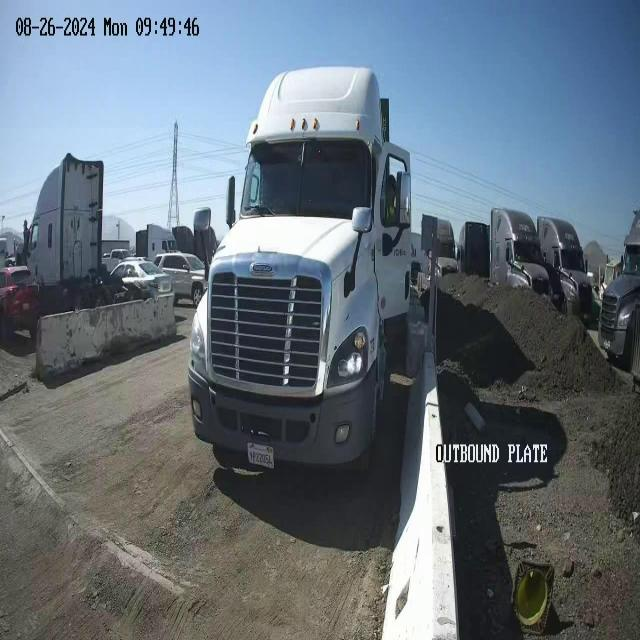TRUCK_OUT: (188, 64, 420, 478)
